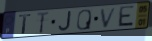E: (116, 4, 136, 28)
J: (58, 10, 73, 32)
Q: (75, 8, 92, 31)
T: (36, 11, 51, 35), (18, 13, 33, 35)
V: (100, 7, 118, 29)
